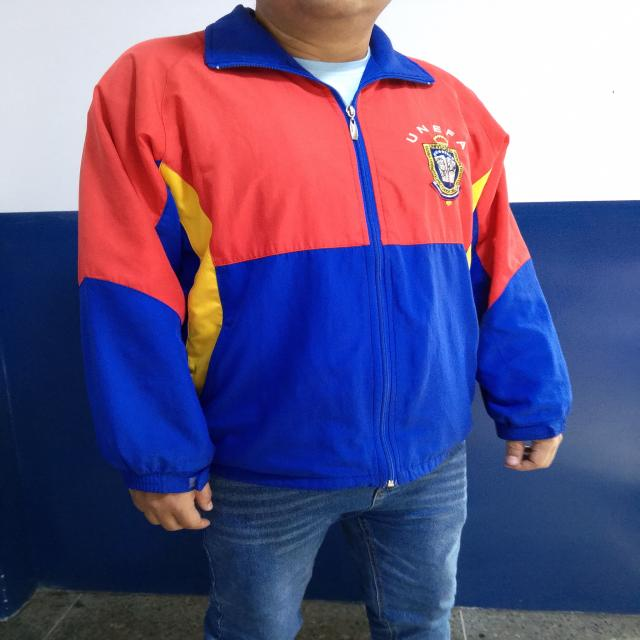chaqueta_unefa: (77, 4, 575, 496)
